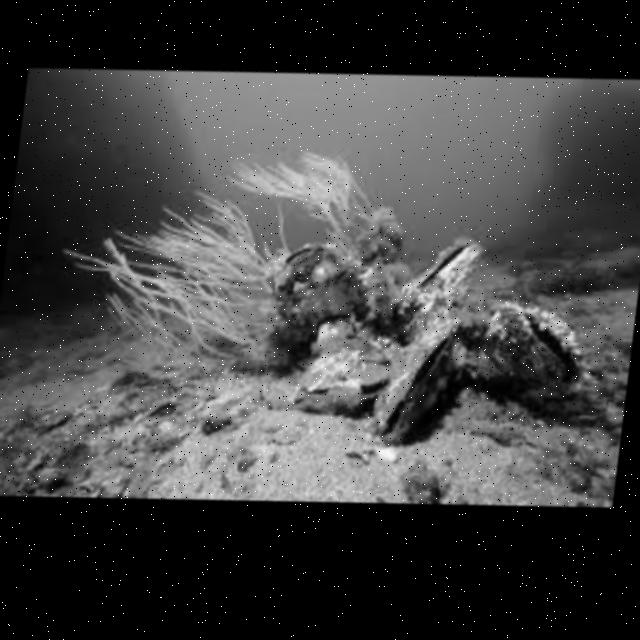Oyster-Indeterminate: (264, 244, 368, 353)
Oyster-Open: (373, 317, 460, 443), (459, 301, 580, 384), (295, 331, 402, 400), (396, 242, 480, 322)
